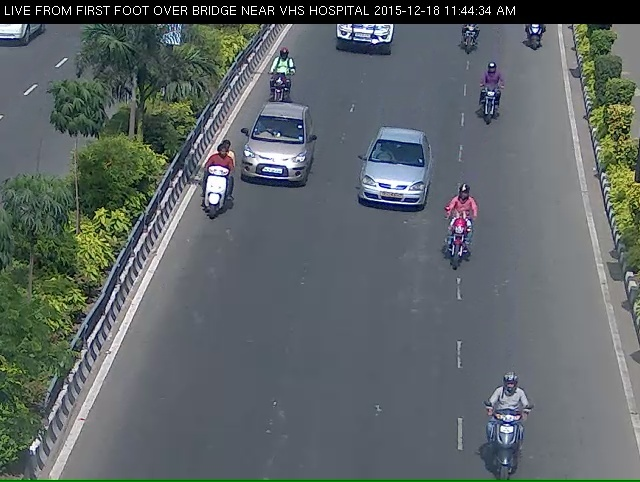Car: (339, 123, 437, 228), (233, 108, 325, 208)
Person: (471, 396, 546, 478), (183, 152, 233, 243), (437, 198, 481, 293), (471, 69, 510, 132), (256, 54, 297, 113), (454, 21, 486, 65)
